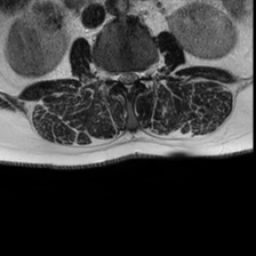CCS_normal: (123, 64, 131, 98)
LFS_normal: (139, 59, 149, 87)
LLS_normal: (131, 63, 139, 90)
RFS_normal: (107, 62, 115, 88)
RLS_normal: (115, 64, 123, 88)
